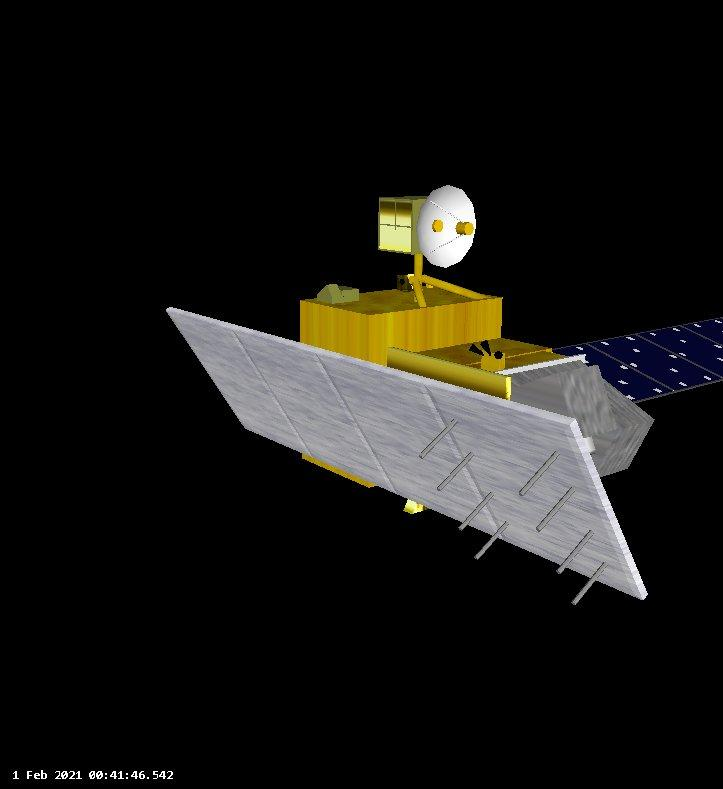antenna: (415, 183, 478, 270)
solar: (549, 314, 723, 406)
thruster: (467, 342, 486, 358), (479, 338, 493, 357), (491, 349, 505, 362)
